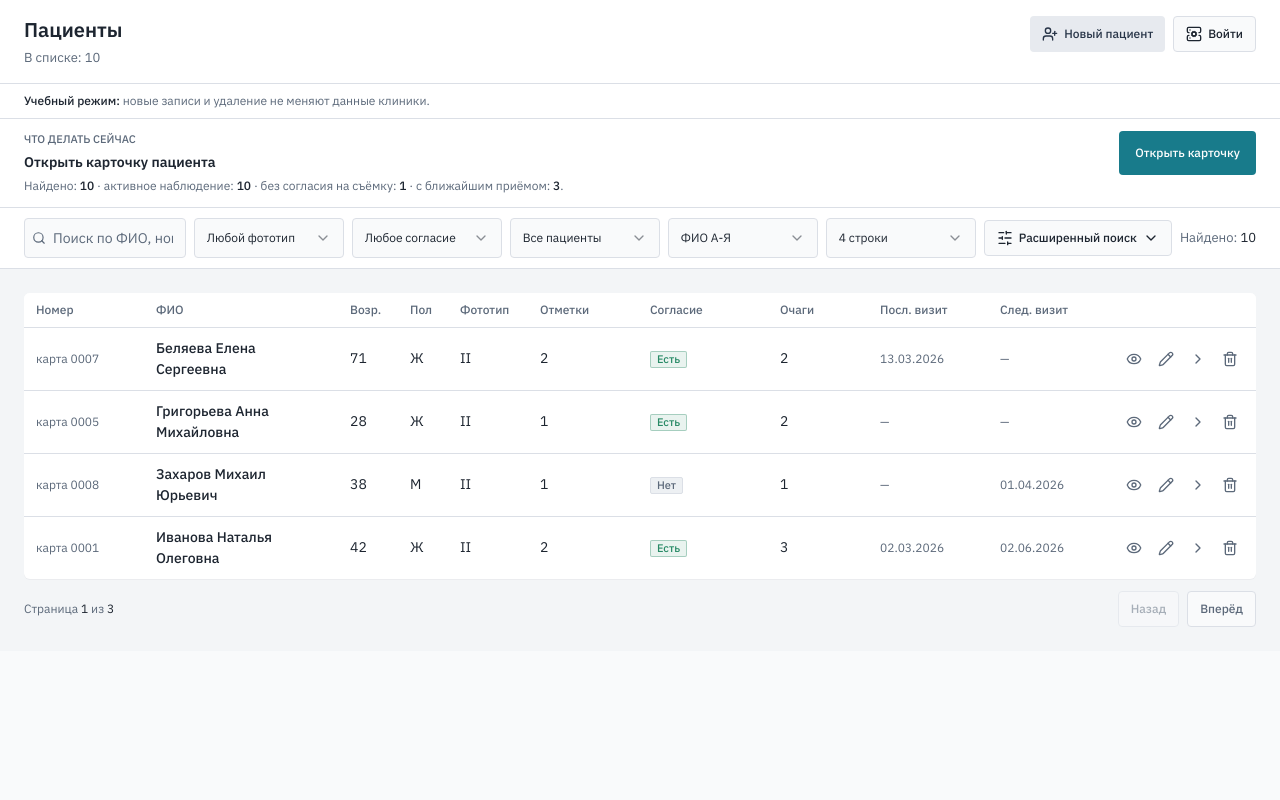
Test: PatientsPage › requires a non-empty patient name before saving
Step 1. Click the button named "Редактировать пациента Иванова Наталья Олеговна" → (1166, 548), box x1=1152 y1=534 x2=1180 y2=562
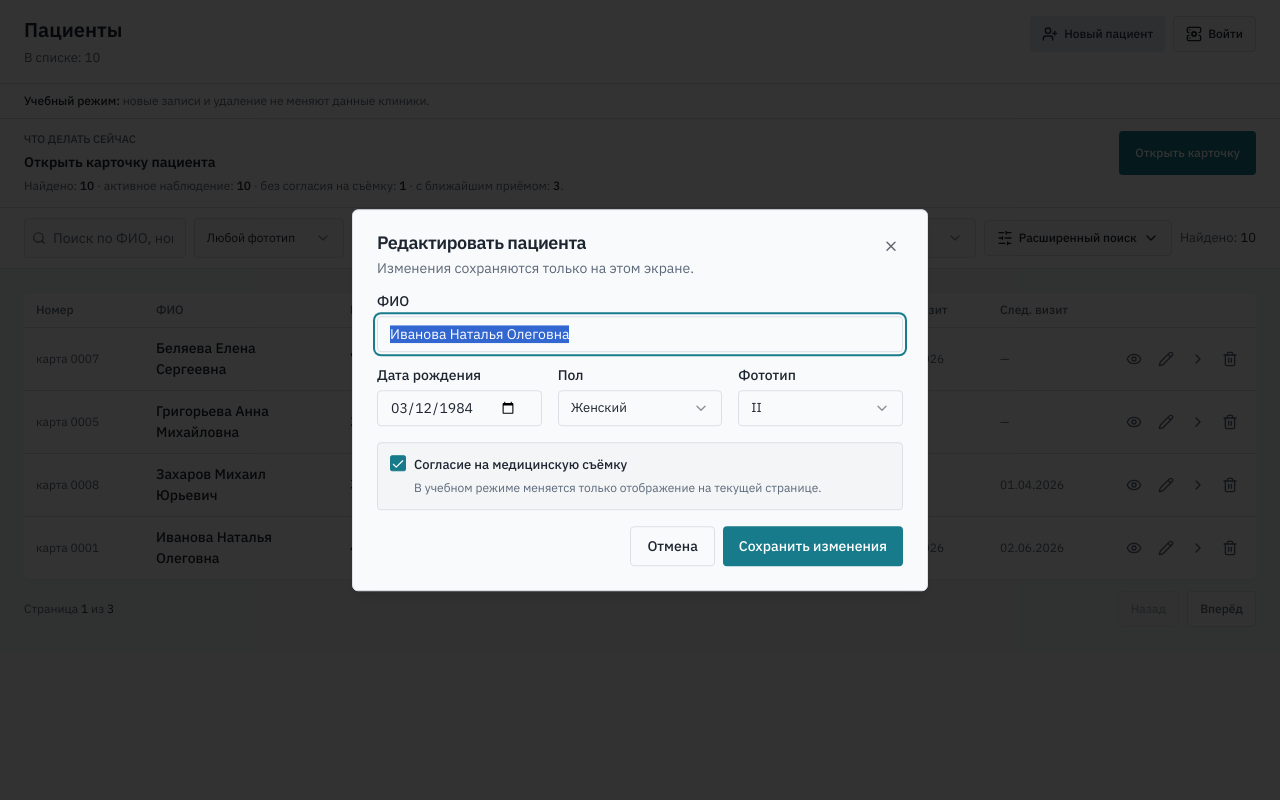
Step 2. Clear the field labelled "ФИО" → (640, 334), box x1=377 y1=316 x2=903 y2=352
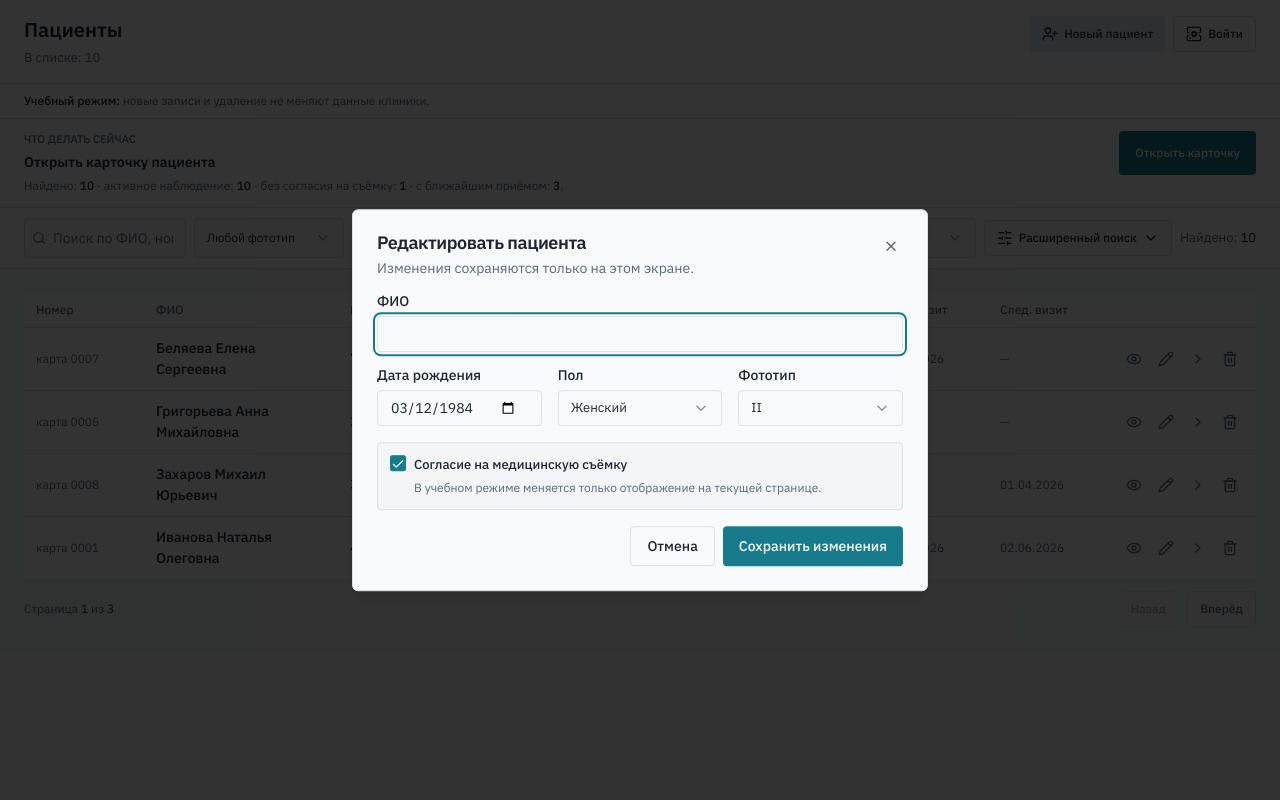
Step 3. Click the button "Сохранить изменения" → (813, 546), box x1=723 y1=526 x2=903 y2=566
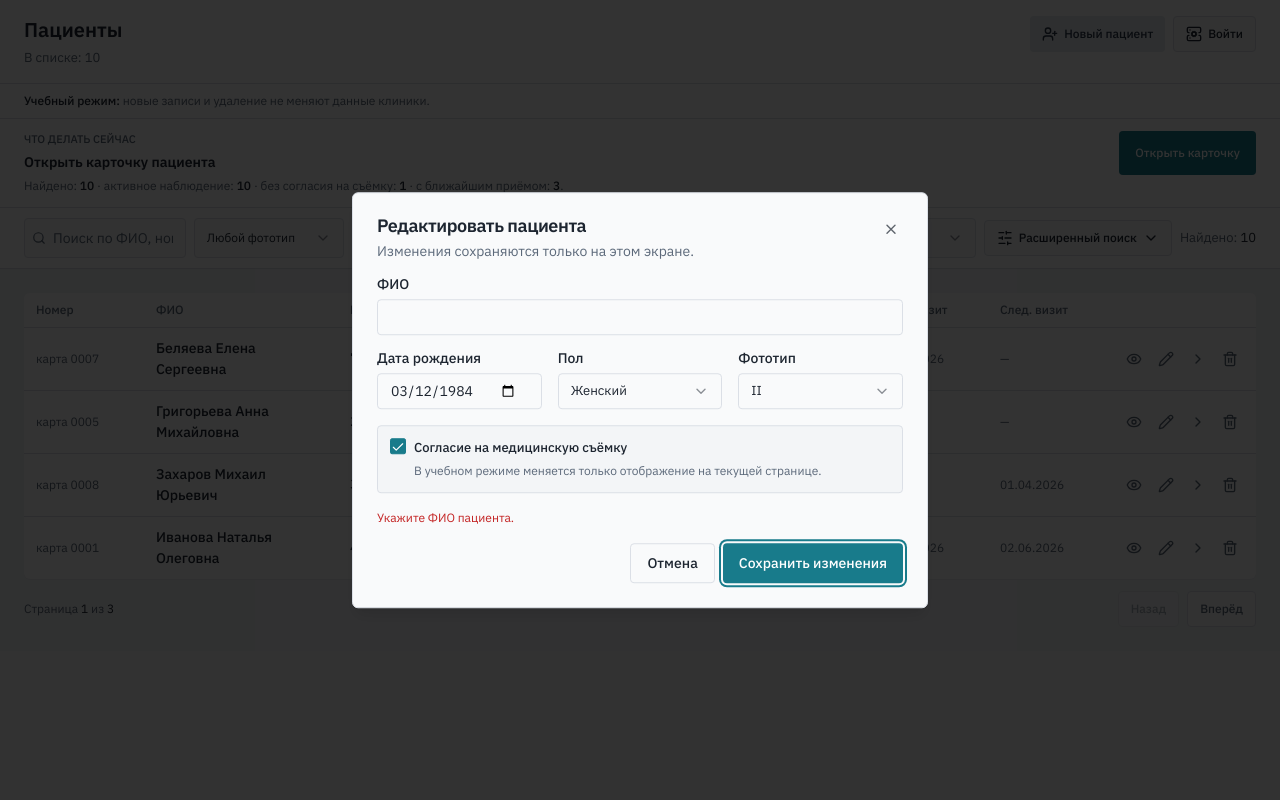
Expected: the dialog "Редактировать пациента" is shown, x1=352 y1=192 x2=928 y2=608
Expected: the message reads "Укажите ФИО пациента.", x1=377 y1=510 x2=514 y2=525
